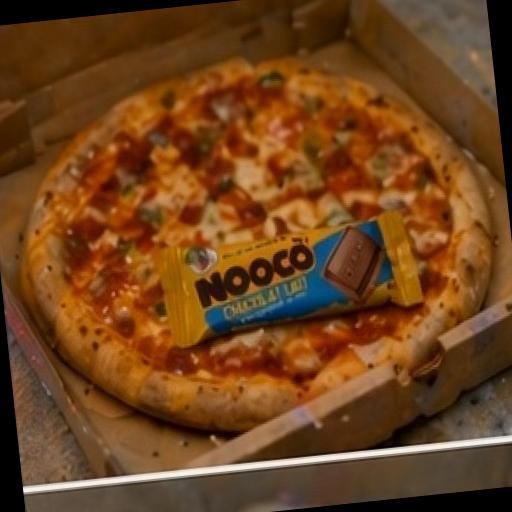nooco: (140, 193, 448, 389)
